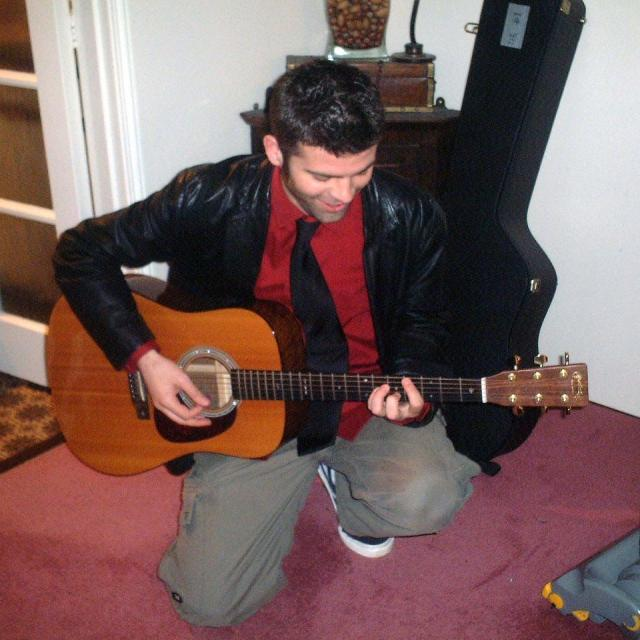guitar: (45, 272, 591, 478)
